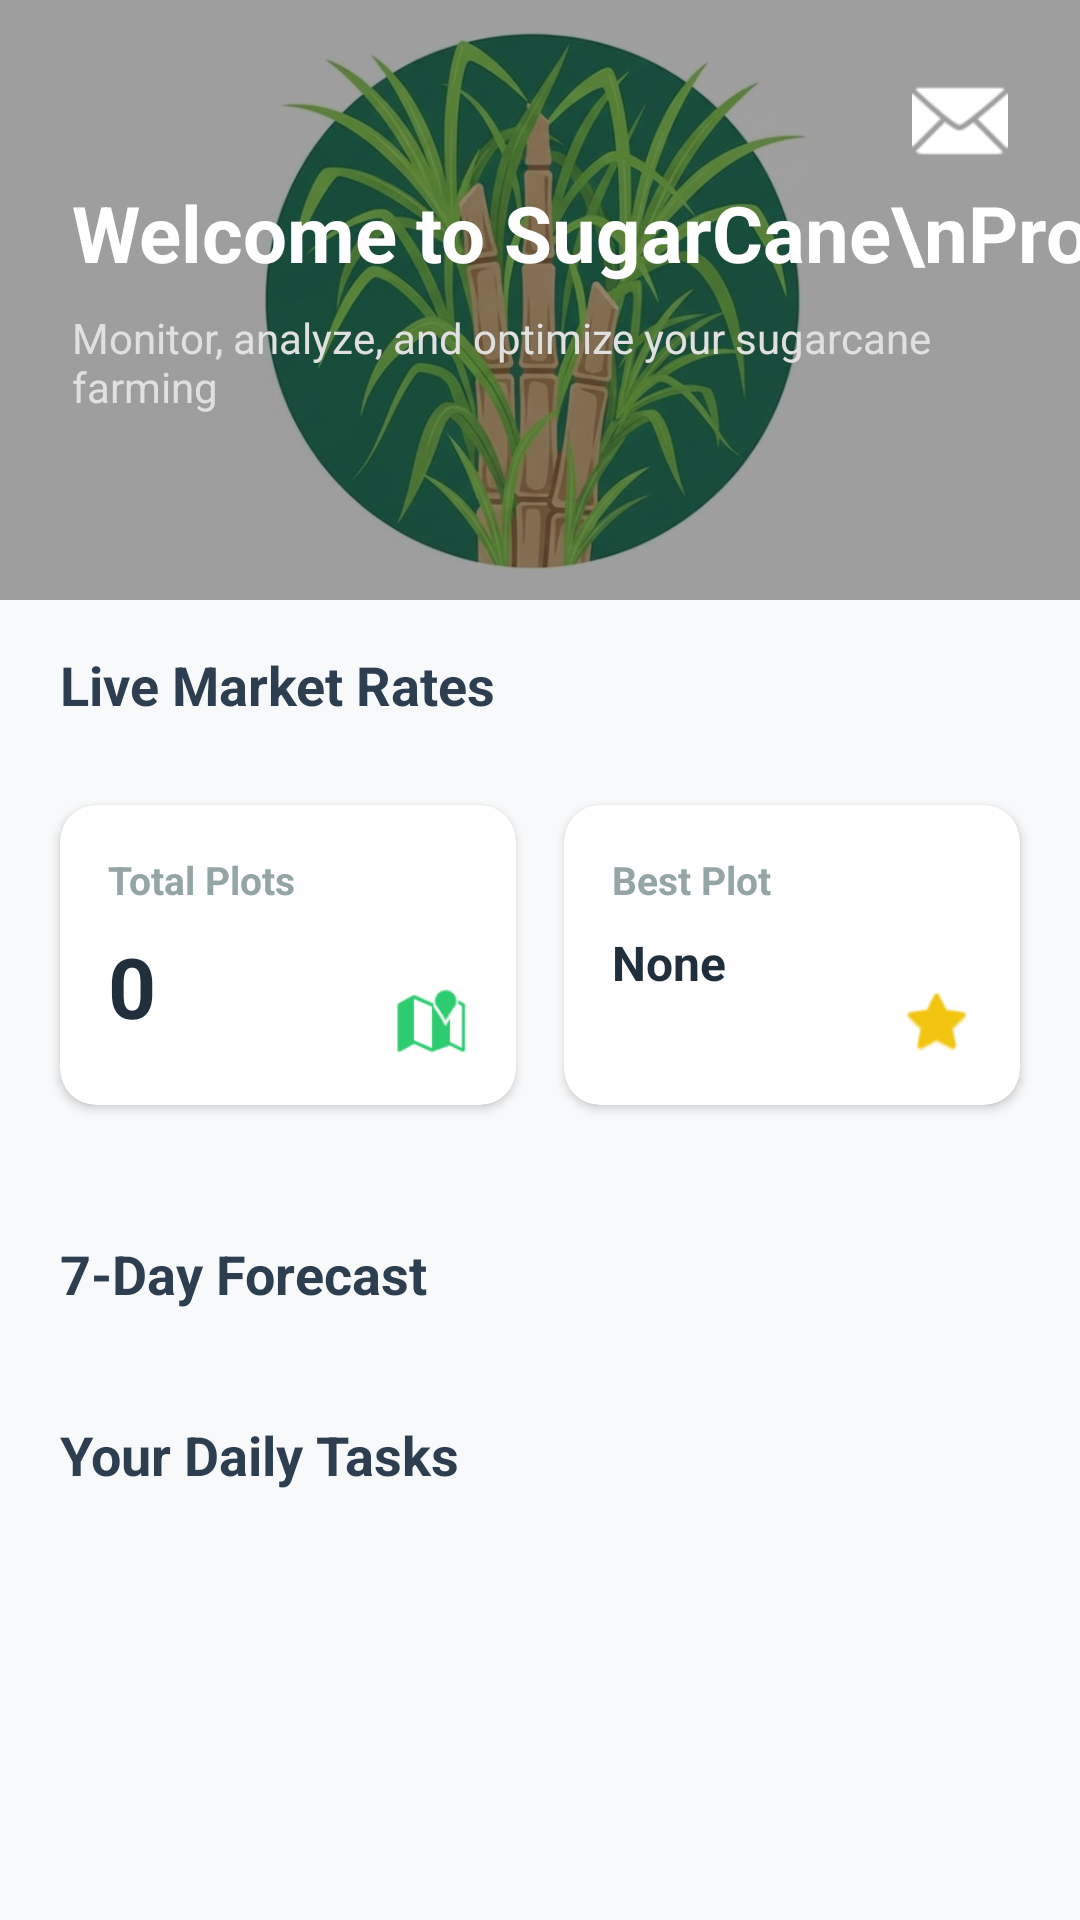

Named icons in this screenshot (1080x1920) and their centers, (x=x, y=y):
email: (x=960, y=121)
map: (x=431, y=1021)
star on: (x=936, y=1021)
